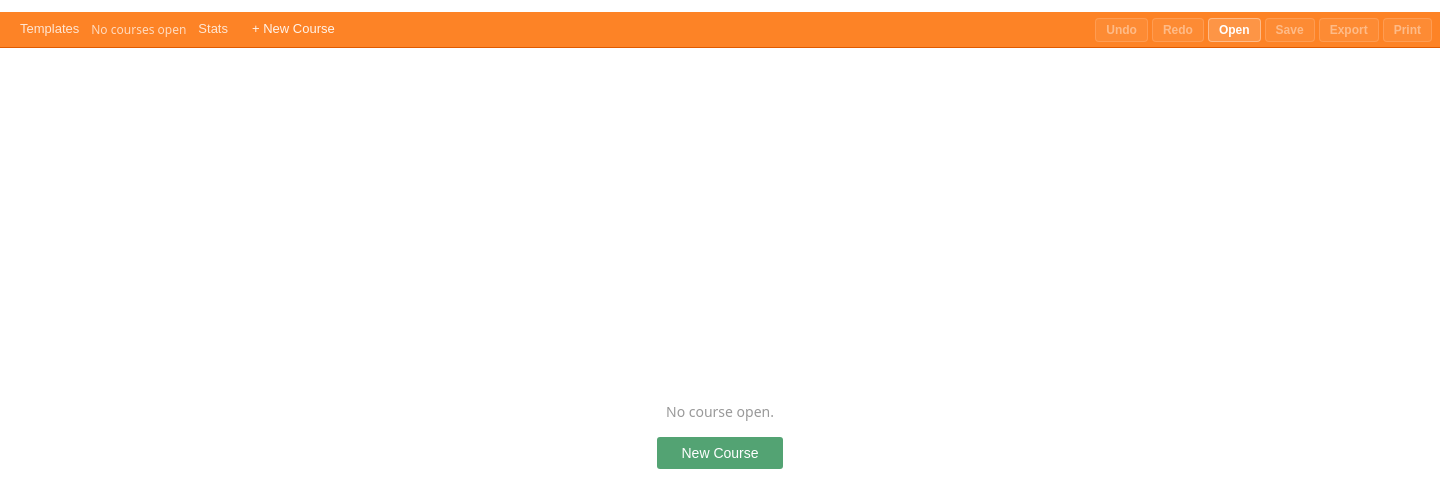
Test case: App › shows Names tab after a course is opened
Click the button "Open" at {"x": 1234, "y": 30}, box [1208,18,1261,42]
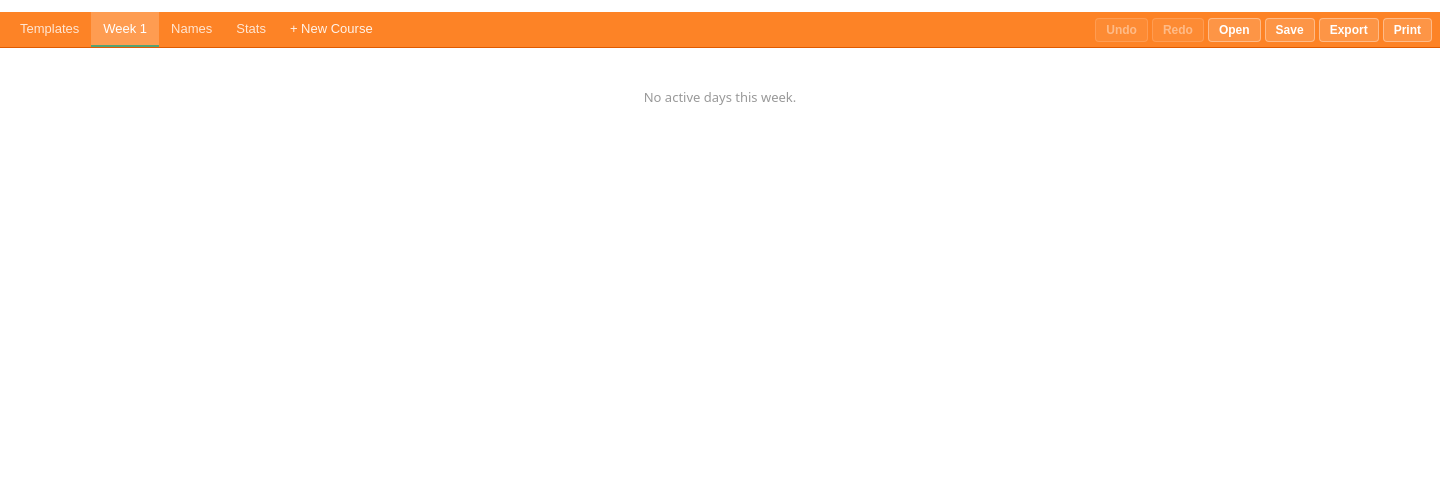
Now the tab "Names" is shown, box [159,12,224,47]
